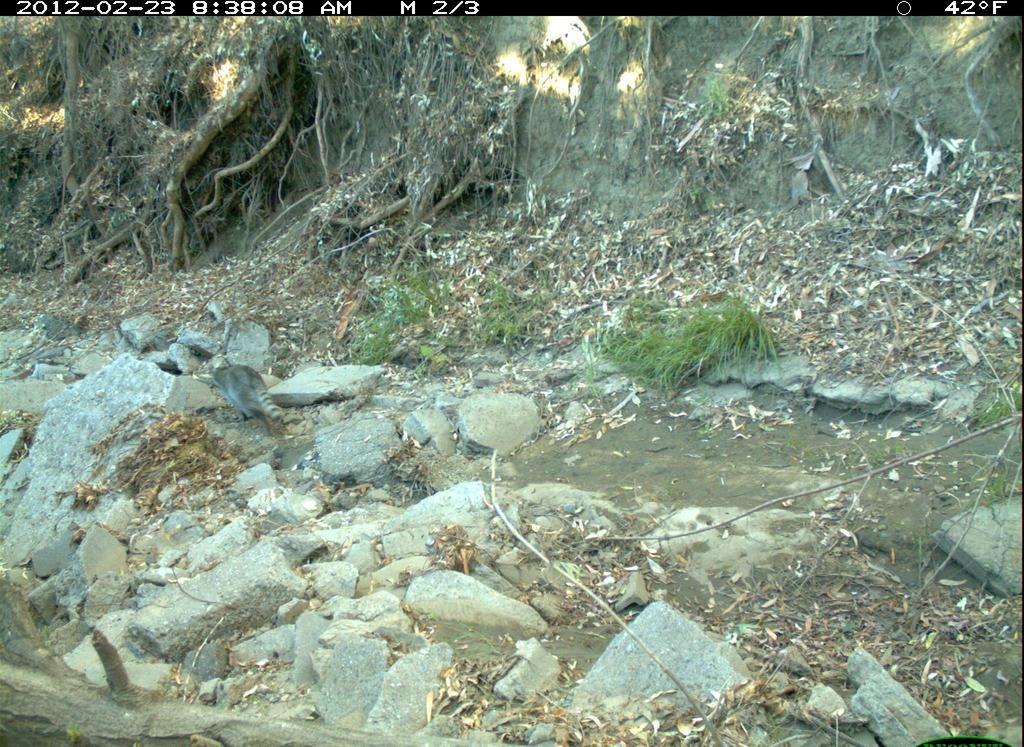raccoon: (204, 355, 291, 432)
